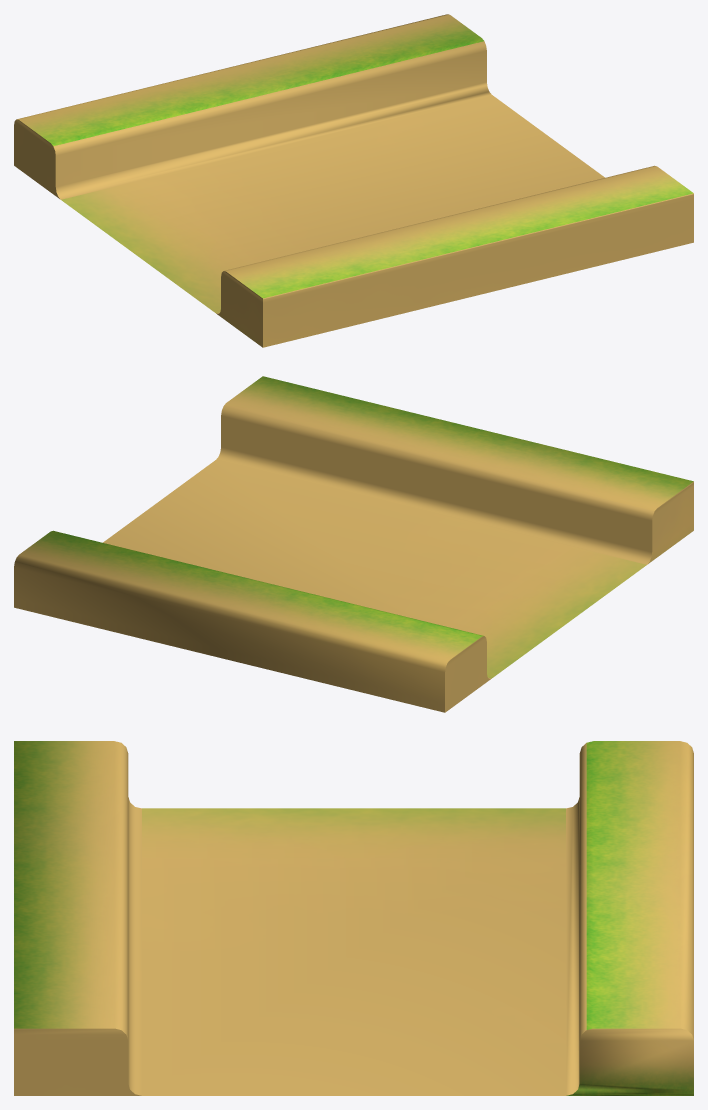
The model's file is Map02.obj.
3 renders of one model, top to bottom at view 1: azimuth 30°, elevation 25°; view 2: azimuth 150°, elevation 25°; view 3: azimuth 270°, elevation 25°, orthographic. The views are drawn at different scales.
Visible parts, largest first — view 1: Map.012_Plane.005; view 2: Map.012_Plane.005; view 3: Map.012_Plane.005.
Part boxes in pixels (box(x1,y1,x2,y2)): Map.012_Plane.005: box(14, 14, 693, 347); Map.012_Plane.005: box(14, 376, 693, 712); Map.012_Plane.005: box(14, 741, 693, 1095).
Bounding box in the file's own units: 1 × 0.1093 × 1.
